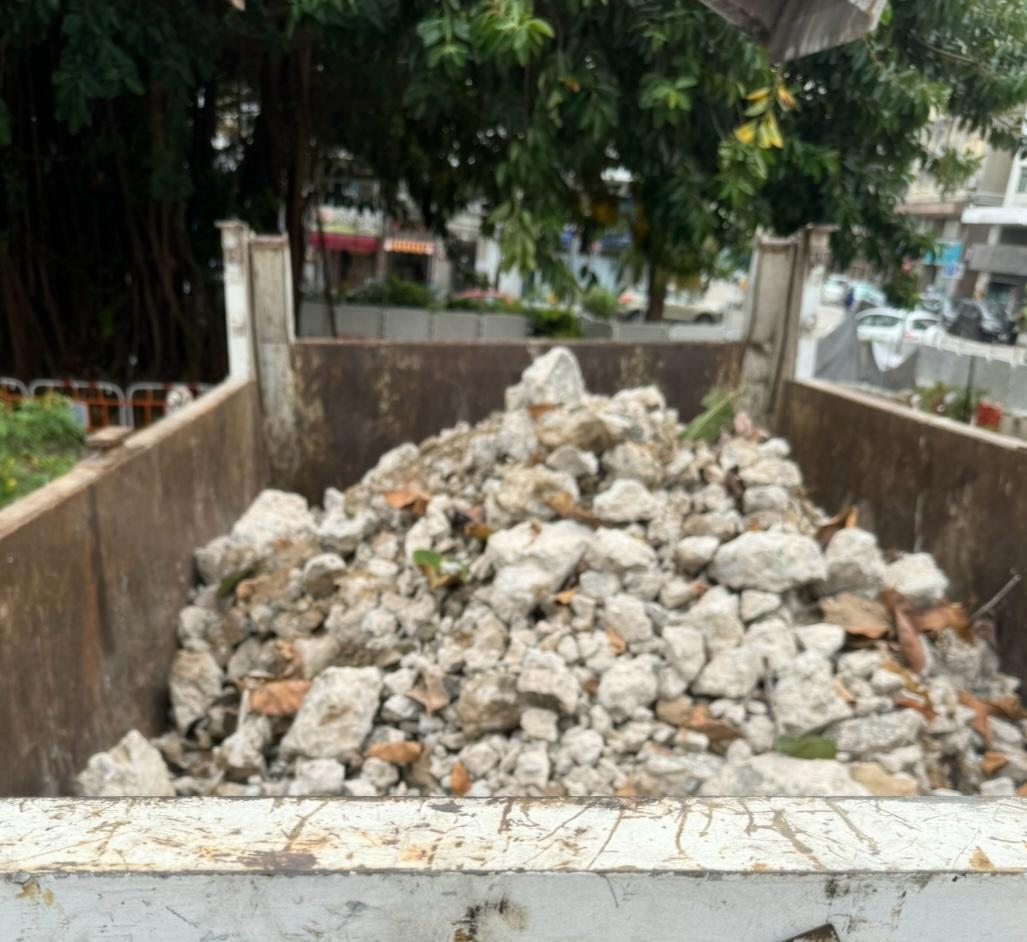dry: (121, 374, 1027, 799)
